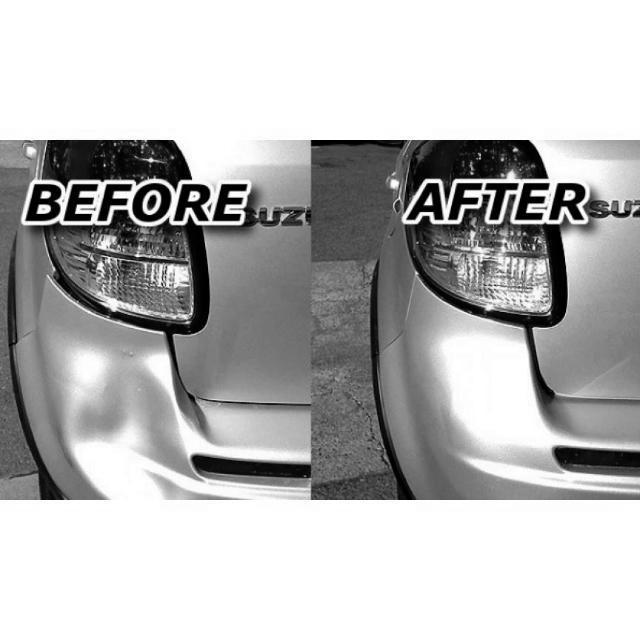rear-bumper-dent: (1, 247, 310, 500)
